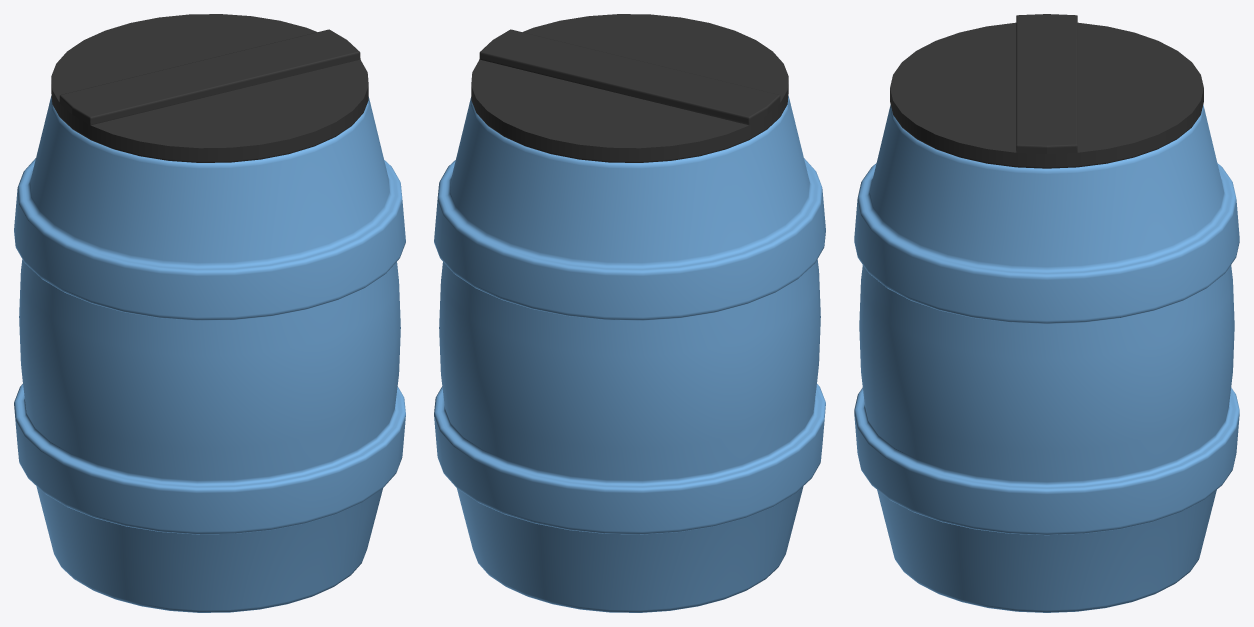
The model's file is WaterBarrel.fbx.
The picture shows the model from 3 angles, left to right: view 1: azimuth 30°, elevation 25°; view 2: azimuth 150°, elevation 25°; view 3: azimuth 270°, elevation 25°; orthographic projection.
Visible parts, largest first — view 1: Barrel.001, Lid.001; view 2: Barrel.001, Lid.001; view 3: Barrel.001, Lid.001.
Part boxes in pixels (x1,y1,x2,y2): Barrel.001: [14, 95, 405, 612]; Lid.001: [51, 14, 368, 162]; Barrel.001: [434, 95, 825, 612]; Lid.001: [471, 14, 788, 162]; Barrel.001: [854, 105, 1239, 612]; Lid.001: [890, 14, 1203, 168].
Size of the model in its own units: 369 by 494 by 369.
